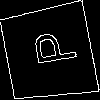P: (24, 27, 78, 69)
